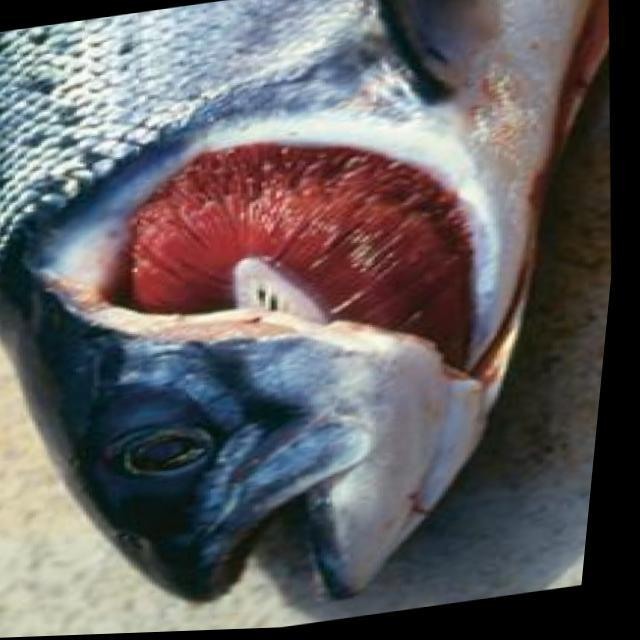Gill Disease: (4, 46, 557, 524)
